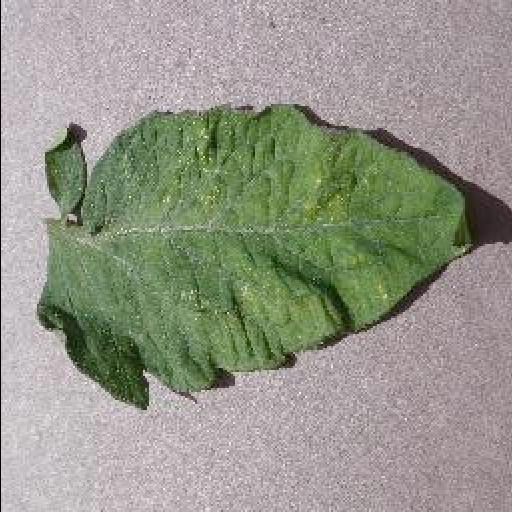disease_tomato: (31, 103, 469, 409)
